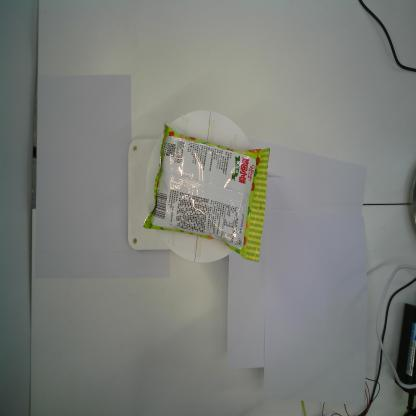Puffed Food: (140, 120, 272, 264)
